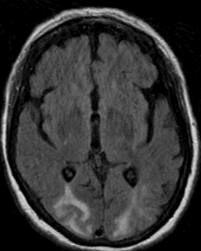Normal_Brain: (1, 3, 201, 251)
